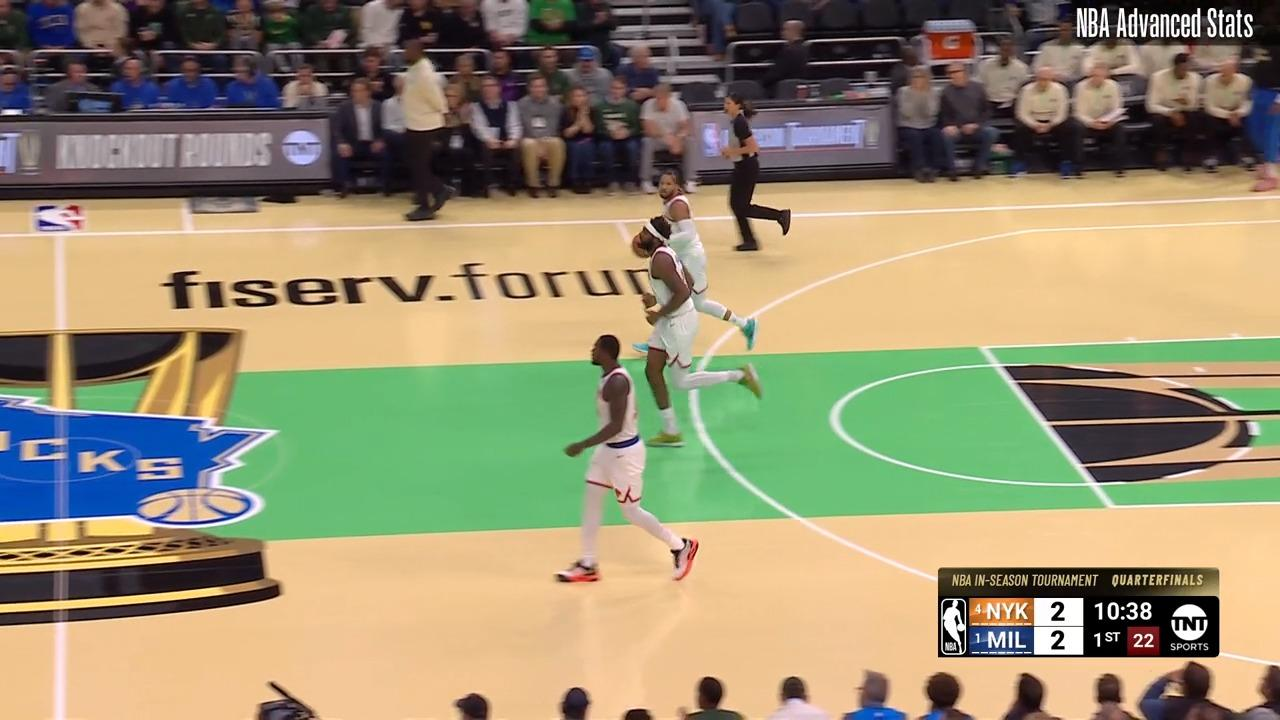Ball: (631, 233, 650, 259)
Person: (551, 339, 691, 590), (635, 216, 769, 430), (648, 162, 757, 350)
Referee: (710, 95, 797, 260)
